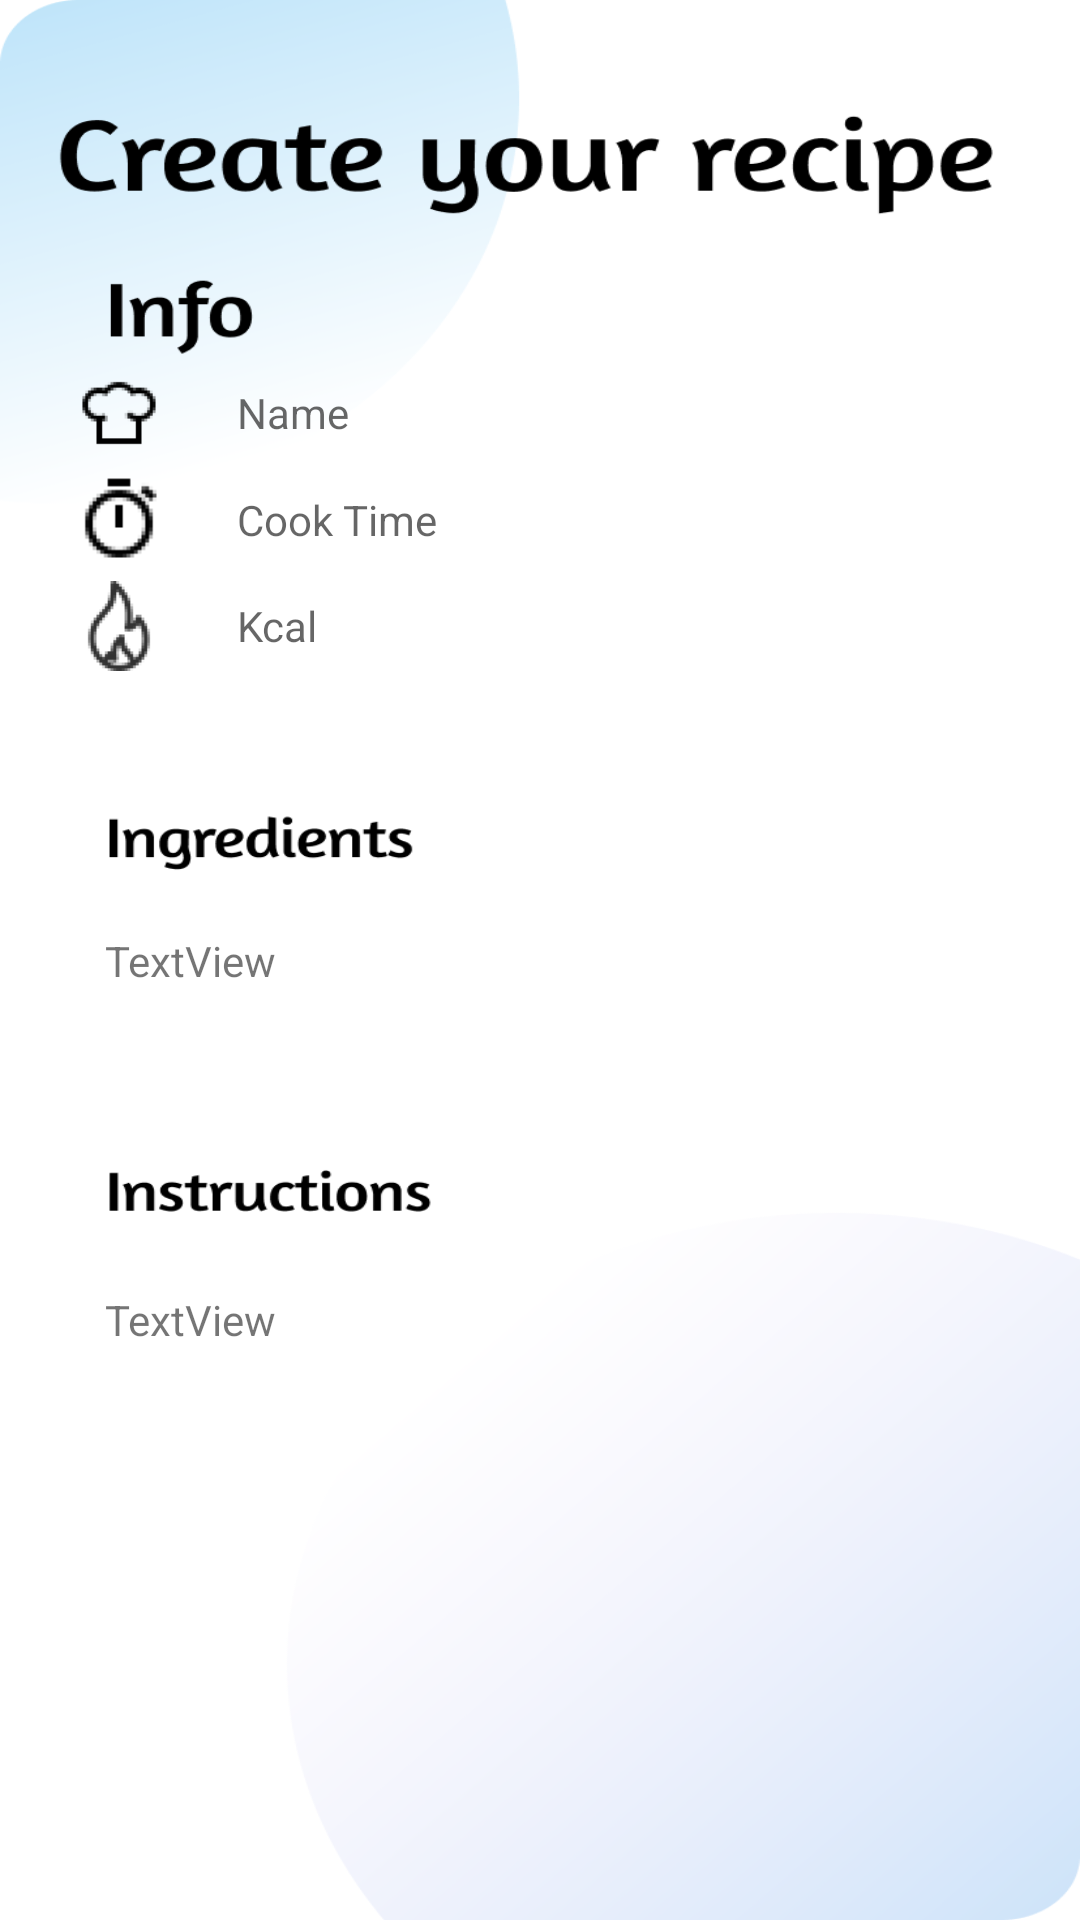

Named icons in this screenshot (1080px x 1920px) and their centers, point (x, y):
calories: point (119, 626)
hat: point (119, 413)
